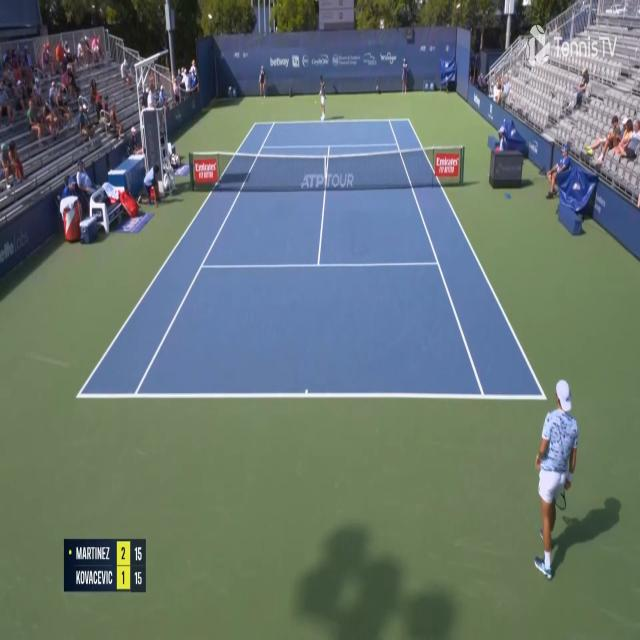tennis-player: (534, 374, 580, 584), (316, 73, 328, 123)
